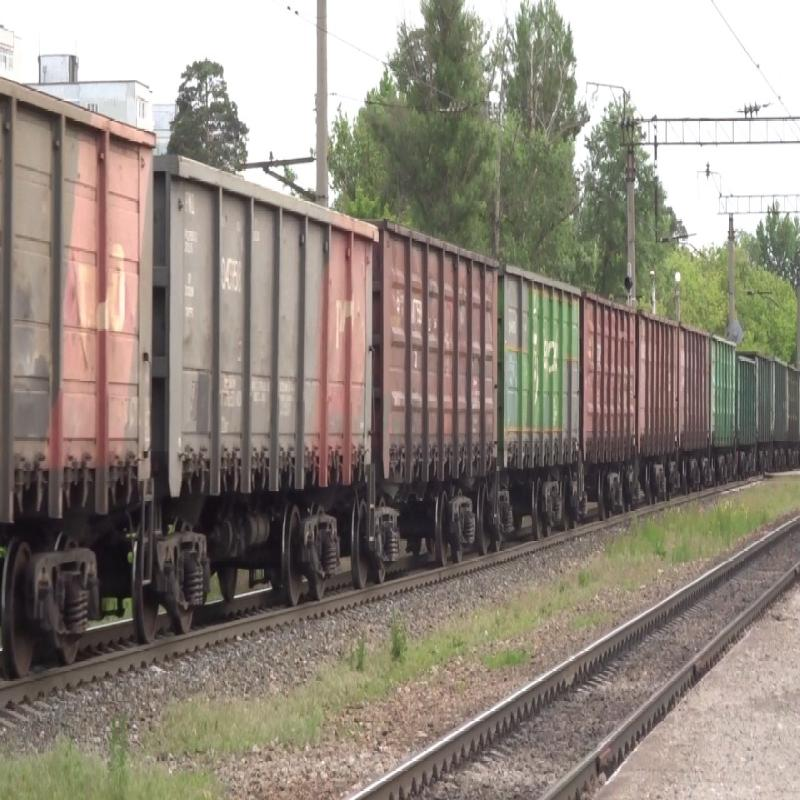train: (1, 64, 388, 676), (356, 203, 511, 581), (477, 266, 590, 544), (631, 293, 719, 507), (564, 292, 644, 525)
